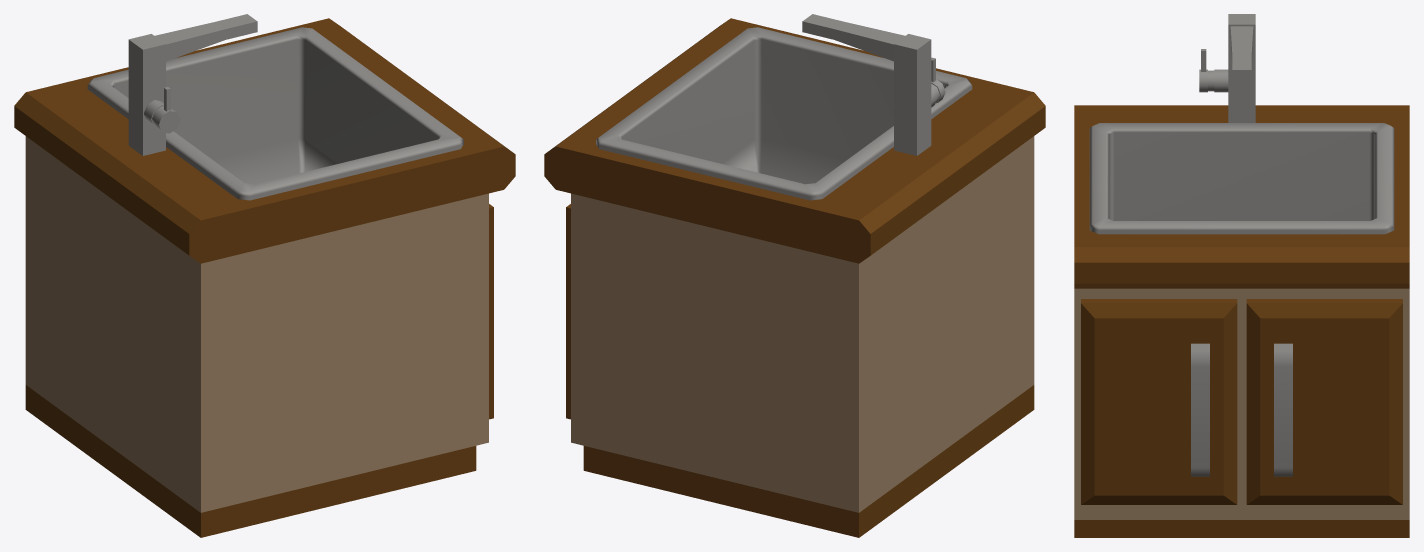
File: SM_Bench_Sink.fbx
3 renders of one model, left to right at view 1: azimuth 30°, elevation 25°; view 2: azimuth 150°, elevation 25°; view 3: azimuth 270°, elevation 25°, orthographic. The views are drawn at different scales.
Visible parts, largest first — view 1: SM_Bench_Sink; view 2: SM_Bench_Sink; view 3: SM_Bench_Sink.
Boxes of the visible parts, x1,y1,x2,y2 form: SM_Bench_Sink: [14, 14, 515, 537]; SM_Bench_Sink: [544, 14, 1045, 537]; SM_Bench_Sink: [1074, 14, 1409, 537].
Bounding box in the file's own units: 111 × 133 × 100.
